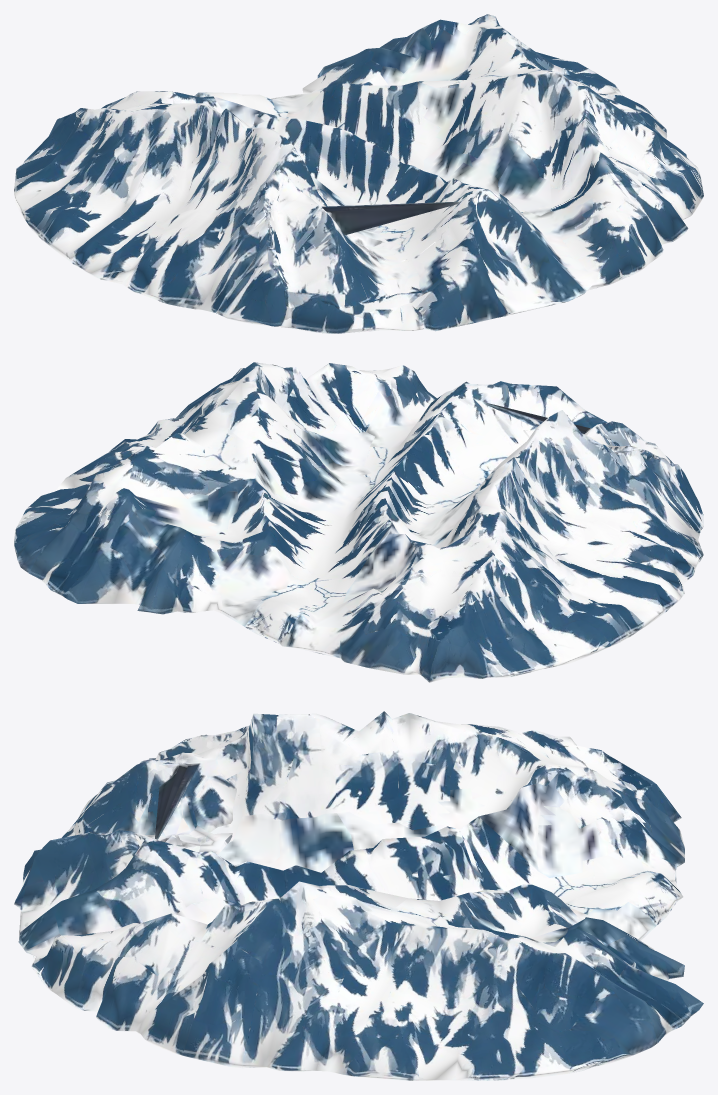
File: mountains_ice.glb
The picture shows the model from 3 angles, top to bottom: view 1: azimuth 30°, elevation 25°; view 2: azimuth 150°, elevation 25°; view 3: azimuth 270°, elevation 25°; orthographic projection. The views are drawn at different scales.
Visible parts, largest first — view 1: 0; view 2: 0; view 3: 0.
Part boxes in pixels (x1,y1,x2,y2): 0: [14, 14, 703, 333]; 0: [14, 362, 703, 682]; 0: [14, 711, 703, 1080].
Bounding box in the file's own units: 1.89 × 0.3718 × 1.71.
Materials: 1 (1 with a texture image).
